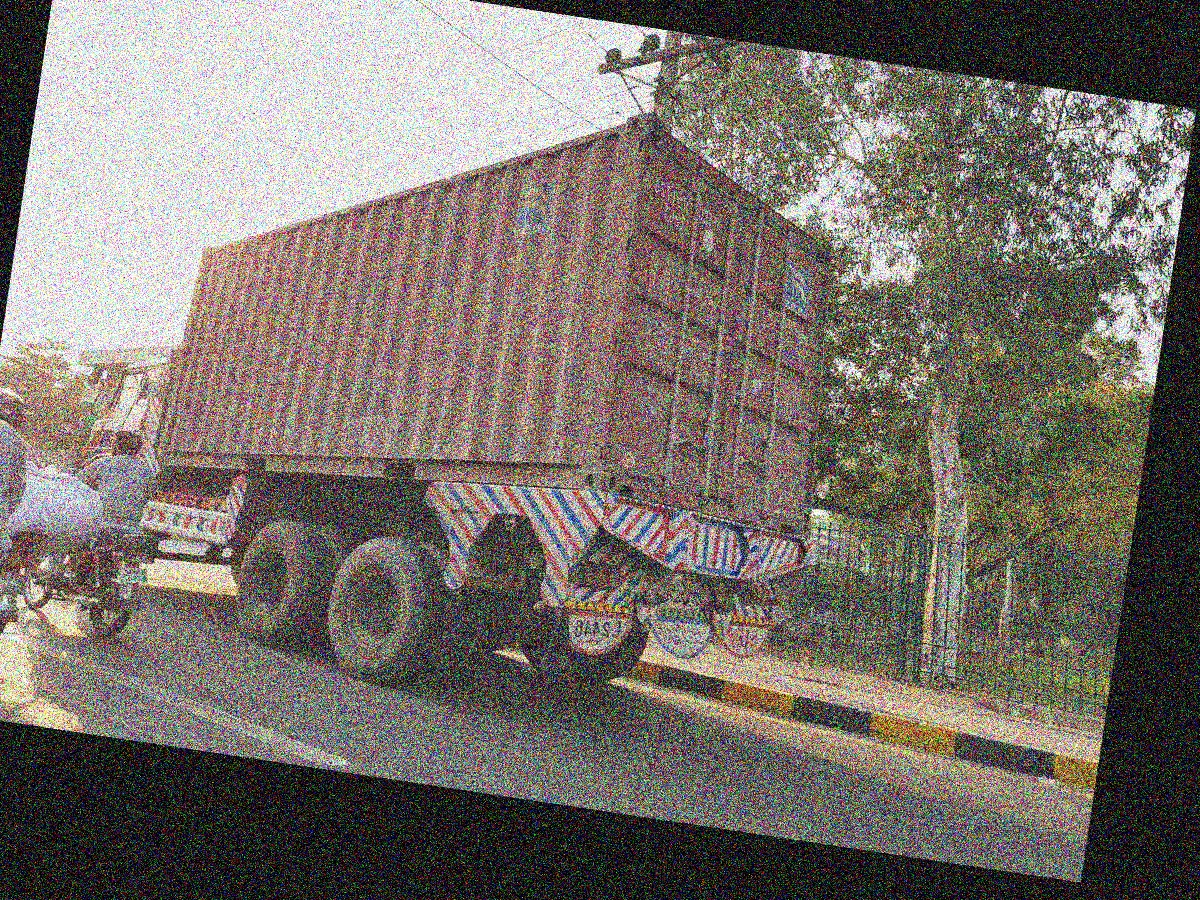truck: (49, 35, 874, 738)
